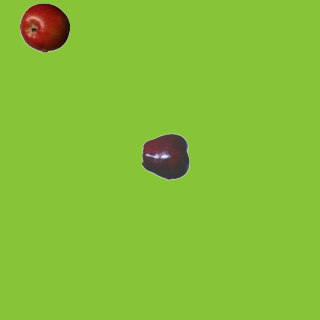Apple Braeburn: (19, 2, 69, 52)
Apple Red Delicious: (141, 131, 191, 181)
